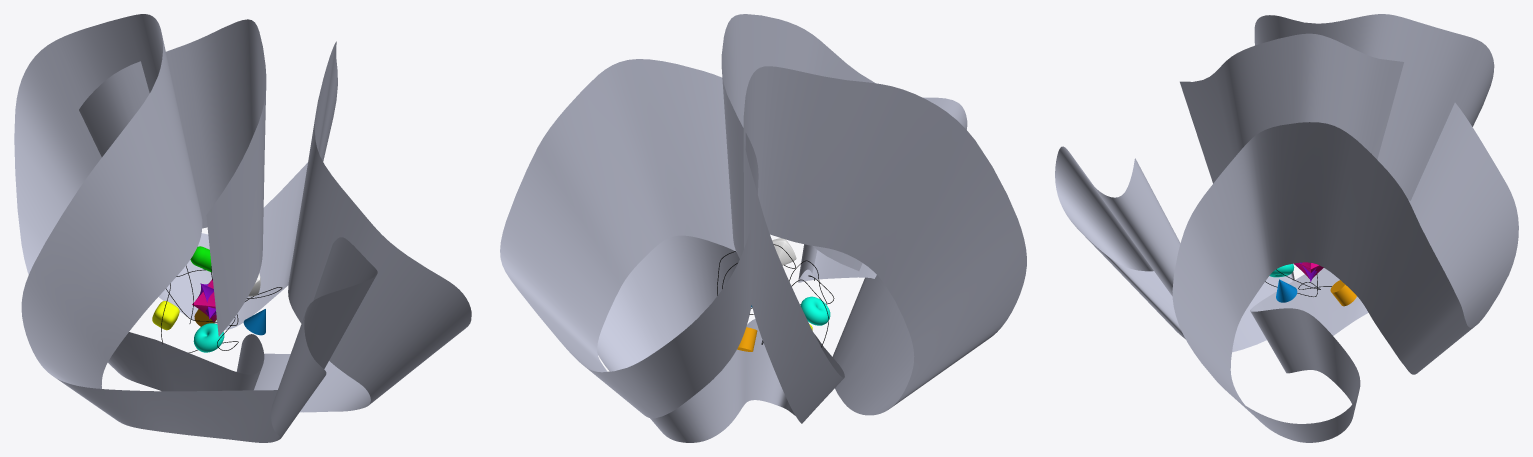
File: ShapesScuplture3.glb
3 renders of one model, left to right at view 1: azimuth 30°, elevation 25°; view 2: azimuth 150°, elevation 25°; view 3: azimuth 270°, elevation 25°, orthographic. The views are drawn at different scales.
Parts seen in each view (by area): view 1: Asset3DLoader.sceneRoot; view 2: Asset3DLoader.sceneRoot; view 3: Asset3DLoader.sceneRoot.
Part boxes in pixels (x1,y1,x2,y2): Asset3DLoader.sceneRoot: (14, 14, 471, 442); Asset3DLoader.sceneRoot: (500, 14, 1026, 442); Asset3DLoader.sceneRoot: (1055, 14, 1518, 442).
Size of the model in its own units: 6873 by 6318 by 7030.
